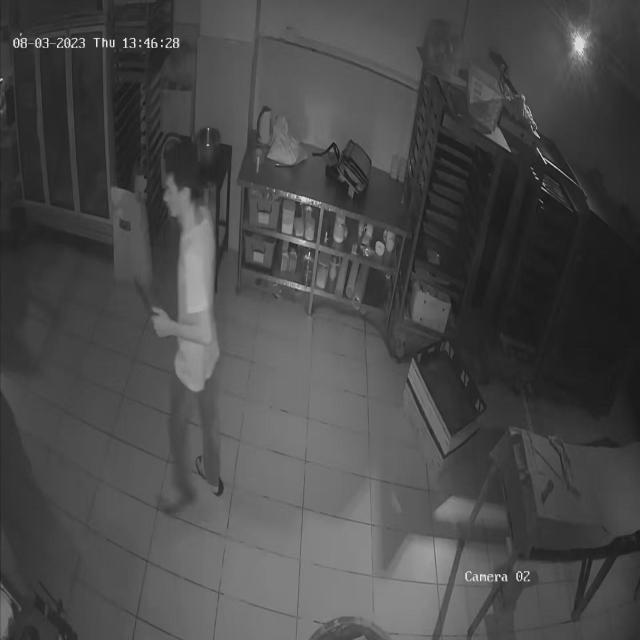Knife: (118, 269, 166, 328)
